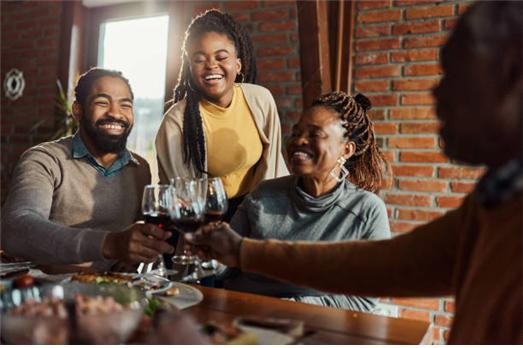alcohol: (187, 180, 230, 277), (137, 184, 170, 279), (173, 174, 203, 265)
